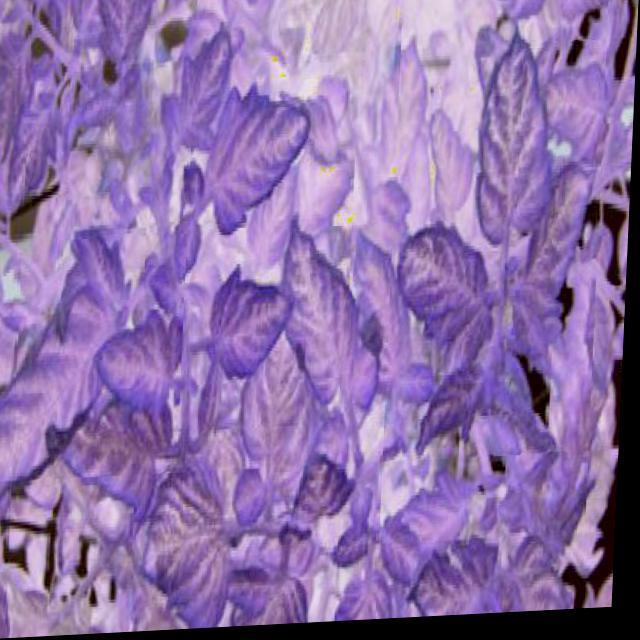Tomato healthy leaf: (0, 267, 152, 534), (463, 26, 578, 254), (276, 209, 388, 430), (392, 219, 510, 389), (199, 76, 317, 232), (148, 455, 250, 630), (198, 258, 314, 390), (94, 308, 188, 424), (165, 36, 233, 181)
